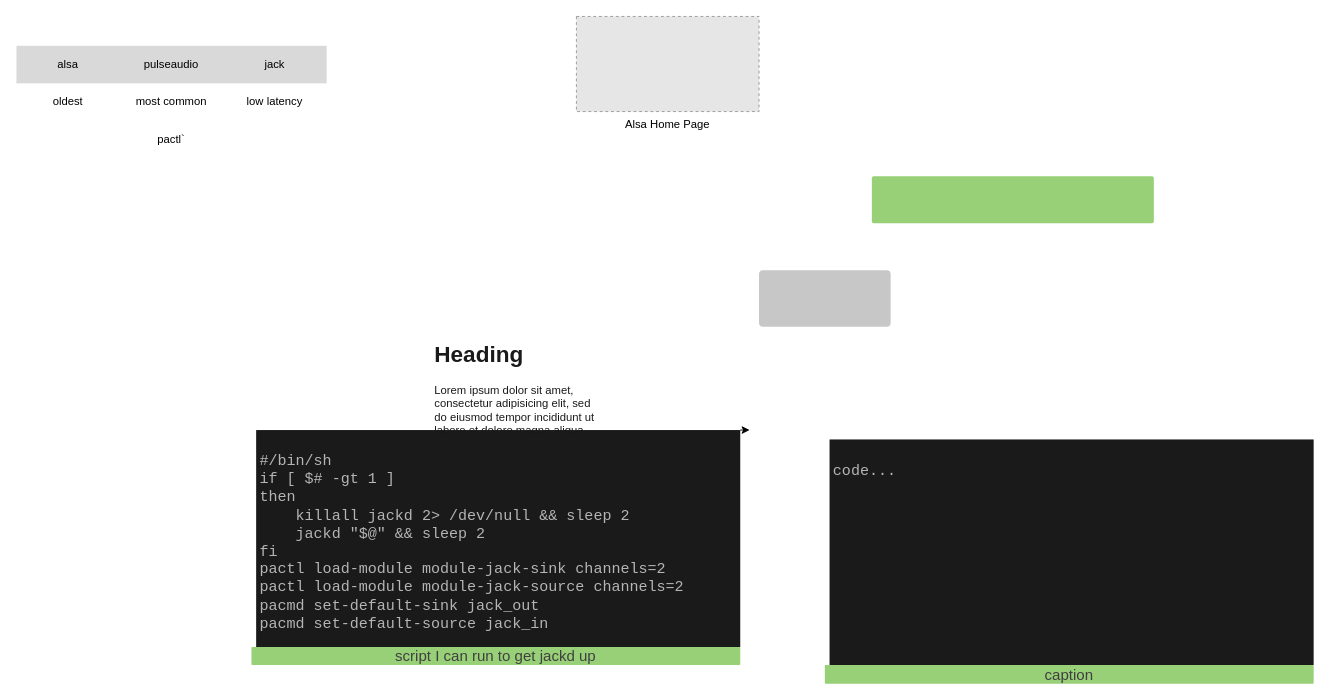
Some shapes in this 1330 by 700 pixel diagram are drawn without their labels. Grey dashed boxes stand in for pictures. The centre of each missing label's shape, as x and y in pixels:
"portaudio" goes at (x=1012, y=199).
"Started in 1998" goes at (x=824, y=298).
